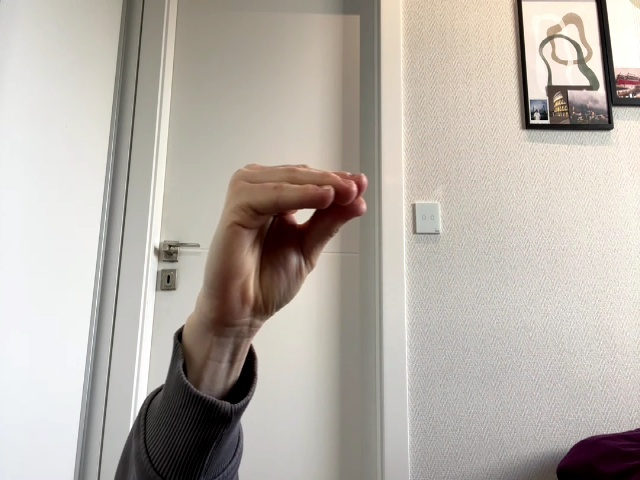E: (206, 165, 369, 324)
